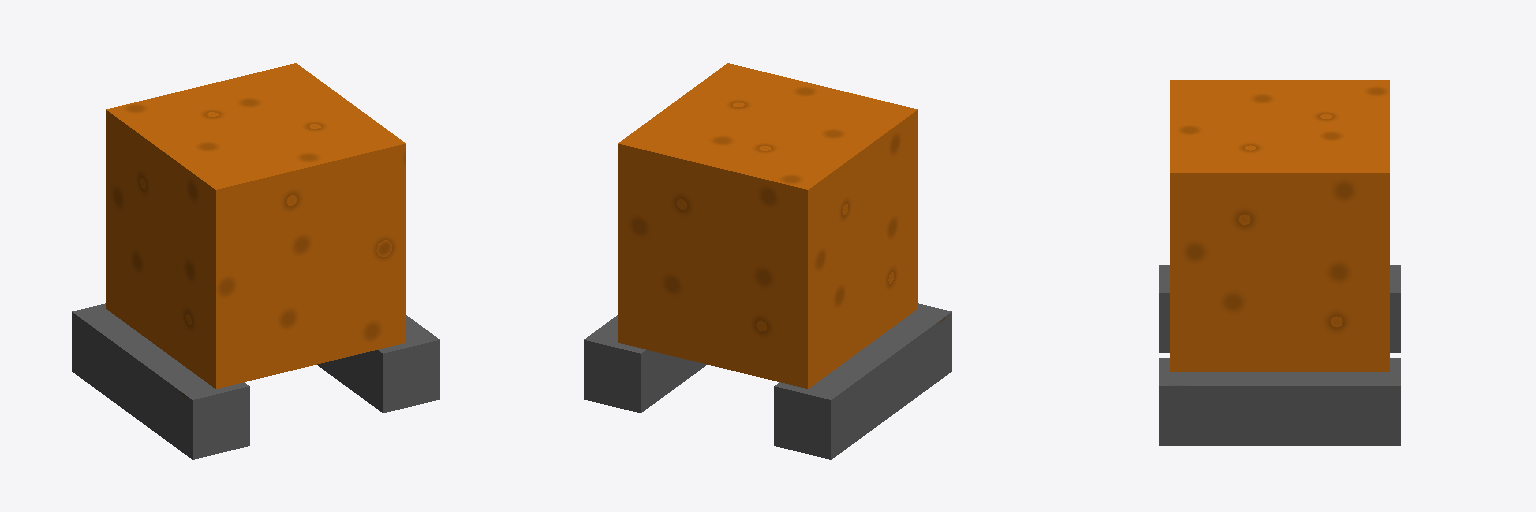
3 renders of one model, left to right at view 1: azimuth 30°, elevation 25°; view 2: azimuth 150°, elevation 25°; view 3: azimuth 270°, elevation 25°, orthographic.
Parts seen in each view (by area): view 1: Cube; view 2: Cube; view 3: Cube.
Part boxes in pixels (bbox=[...]): Cube: bbox=[72, 63, 439, 459]; Cube: bbox=[584, 63, 951, 459]; Cube: bbox=[1159, 80, 1400, 445].
Size of the model in its own units: 1.3 by 1.3 by 1.1.
1 materials, 1 textured.